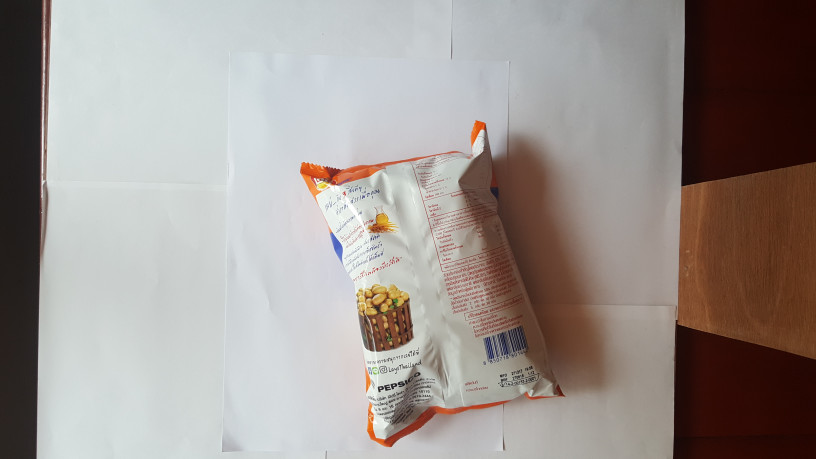lays-bbq: (293, 123, 570, 448)
